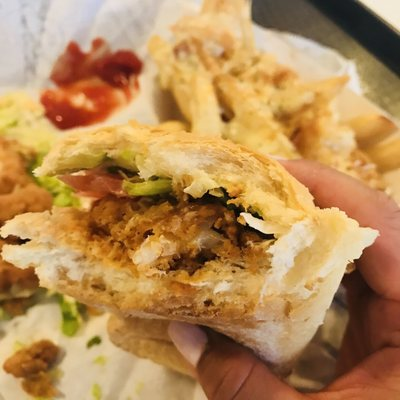soup: (0, 114, 384, 389)
